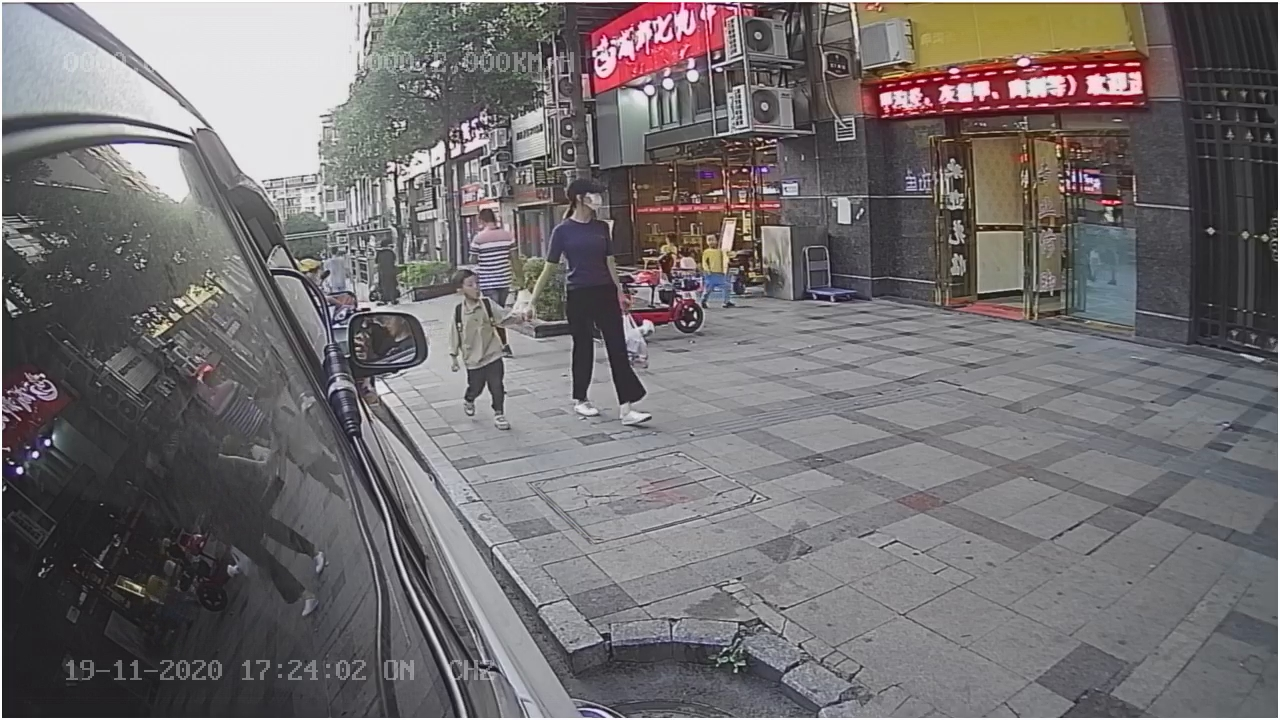person: (539, 178, 655, 431)
